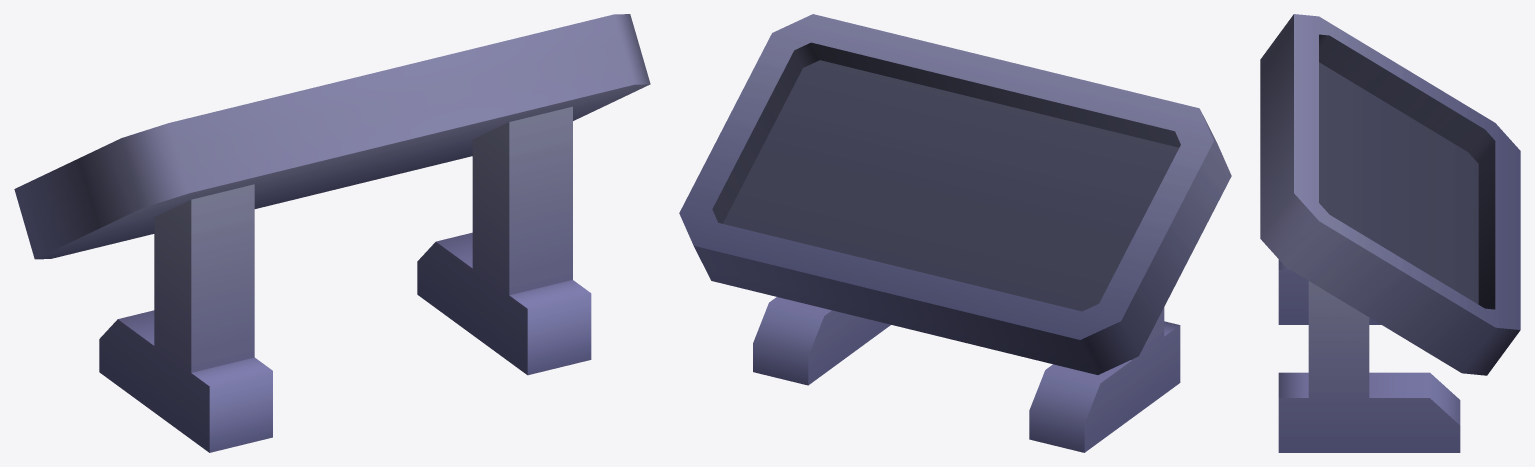
Rendered from kenney-conveyor-screen-flat.glb.
The picture shows the model from 3 angles, left to right: view 1: azimuth 30°, elevation 25°; view 2: azimuth 150°, elevation 25°; view 3: azimuth 270°, elevation 25°; orthographic projection. The views are drawn at different scales.
Parts seen in each view (by area): view 1: screen-flat; view 2: screen-flat; view 3: screen-flat.
Part boxes in pixels (x1,y1,x2,y2): screen-flat: (14, 14, 650, 452); screen-flat: (679, 14, 1231, 452); screen-flat: (1260, 14, 1520, 452).
Size of the model in its own units: 1.2 by 0.7453 by 0.6449.
1 material, 1 textured.
